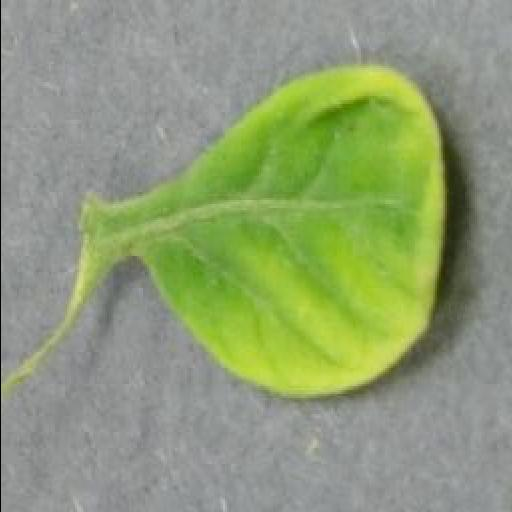disease_tomato: (148, 64, 446, 398)
